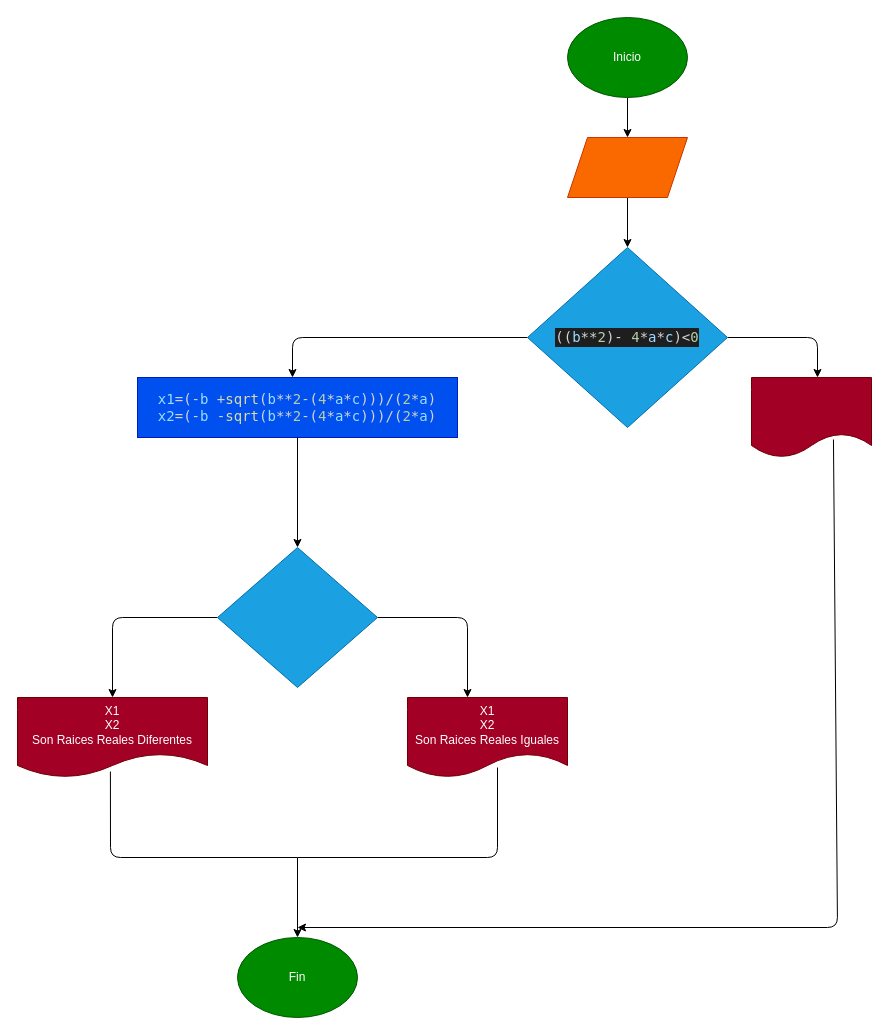
Image size: 889x1035. Some labels were removed from this diagram. Each missing label, with the centre of its shape:
"a.b.c" belongs at pixel 627 167.
"Raices complejas o imaginarias" belongs at pixel 811 417.
"X1=X2" belongs at pixel 297 617.
